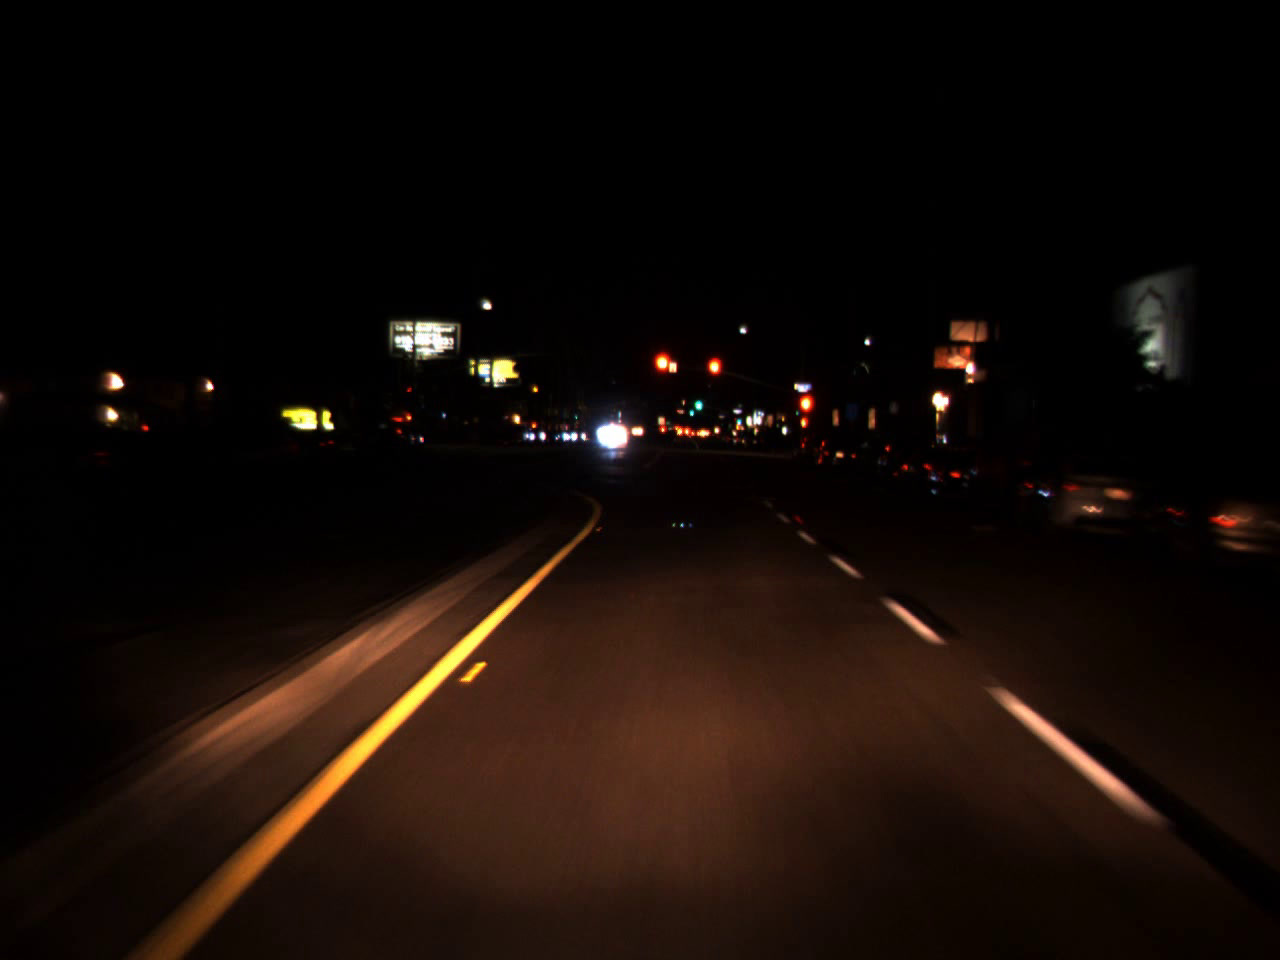go: (693, 396, 702, 411), (733, 411, 742, 426), (688, 402, 695, 417), (572, 409, 579, 421)
stop: (652, 349, 673, 394), (796, 392, 815, 435), (706, 355, 722, 395)
